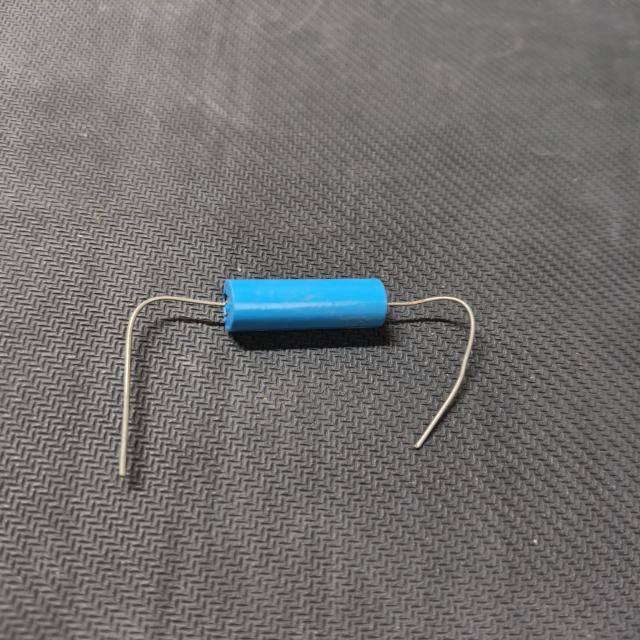capacitor: (116, 269, 482, 482)
